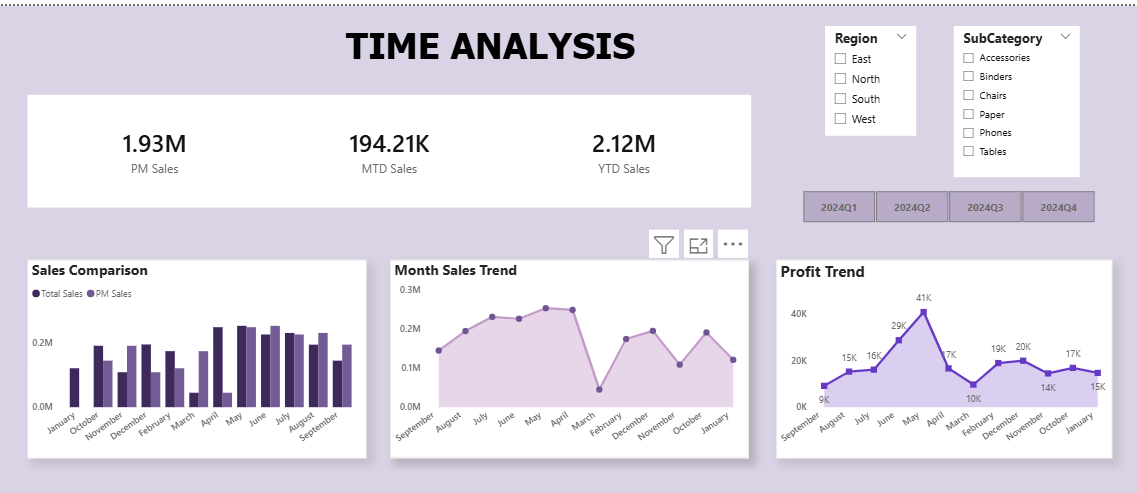

Layout of this report page (visuals, bound fields, positions):
{"tool":"powerbi","page":{"name":"Time Analysis ","canvas":[1515,650],"ordinal":1},"visuals":[{"type":"cardVisual","fields":{"Data":["Calendar.PM Sales","Calendar.MTD Sales","Calendar.YTD Sales"]},"box":[36.7,118.3,965,150],"z":0},{"type":"lineChart","title":"Month Sales Trend ","fields":{"Category":["Calendar.MonthName"],"Y":["Orders.Total Sales"]},"box":[520,338.3,478.3,265],"z":1000},{"type":"clusteredColumnChart","title":"Sales Comparison ","fields":{"Category":["Calendar.MonthName"],"Y":["Orders.Total Sales","Calendar.PM Sales"]},"box":[36.7,338.3,451.7,265],"z":2000},{"type":"areaChart","title":"Profit Trend","fields":{"Category":["Calendar.MonthName"],"Y":["Orders.Total Profit"]},"box":[1035,338.3,448.3,265],"z":3000},{"type":"slicer","fields":{"Values":["Customers.Region"]},"box":[1100,26.7,121.7,146.7],"z":4000},{"type":"slicer","fields":{"Values":["Products.SubCategory"]},"box":[1271.7,26.7,168.3,201.7],"z":5000},{"type":"slicer","fields":{"Values":["Calendar.Quarter"]},"box":[1045,240,438.3,55],"z":6000},{"type":"textbox","box":[440,0,428.3,101.7],"z":7000}]}

Visuals, with their boxes in screenshot pixels (x1, y1, x2, y2), scaled from the page's 1515x650 canvas onto the 1137x493 screenshot:
cardVisual - Calendar.PM Sales x Calendar.MTD Sales: locate(28, 90, 752, 203)
"Month Sales Trend " lineChart: locate(390, 257, 749, 458)
"Sales Comparison " clusteredColumnChart: locate(28, 257, 367, 458)
"Profit Trend" areaChart: locate(777, 257, 1113, 458)
slicer - Customers.Region: locate(826, 20, 917, 132)
slicer - Products.SubCategory: locate(954, 20, 1081, 173)
slicer - Calendar.Quarter: locate(784, 182, 1113, 224)
textbox: locate(330, 0, 652, 77)
